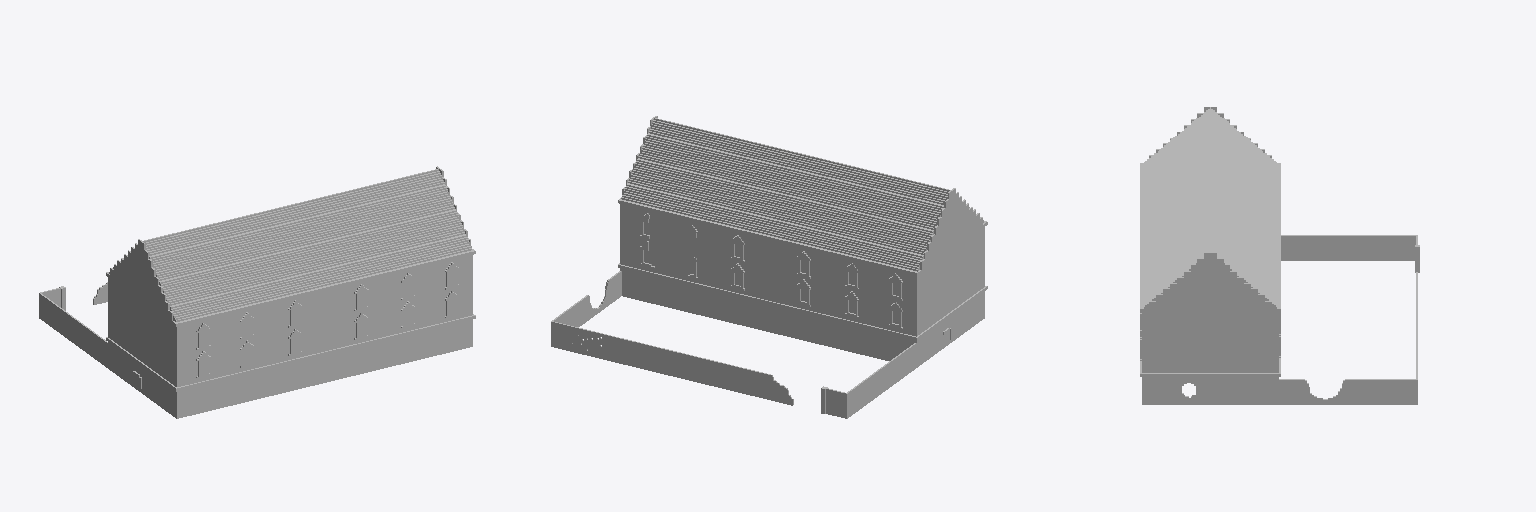
Rendered from Ruined WW1 Building2.obj.
3 views of the same model, side by side, from view 1: azimuth 30°, elevation 25°; view 2: azimuth 150°, elevation 25°; view 3: azimuth 270°, elevation 25° (orthographic).
Parts seen in each view (by area): view 1: object 1; view 2: object 1; view 3: object 1.
Boxes of the visible parts, x1,y1,x2,y2 form: object 1: [39, 166, 475, 418]; object 1: [551, 116, 987, 418]; object 1: [1140, 107, 1419, 404].
Bounding box in the file's own units: 19.9 × 9.7 × 16.1.